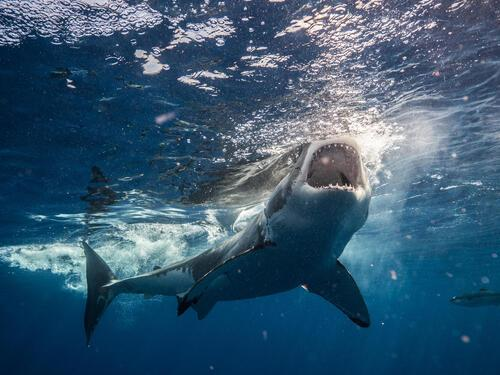shark: (83, 135, 371, 348)
